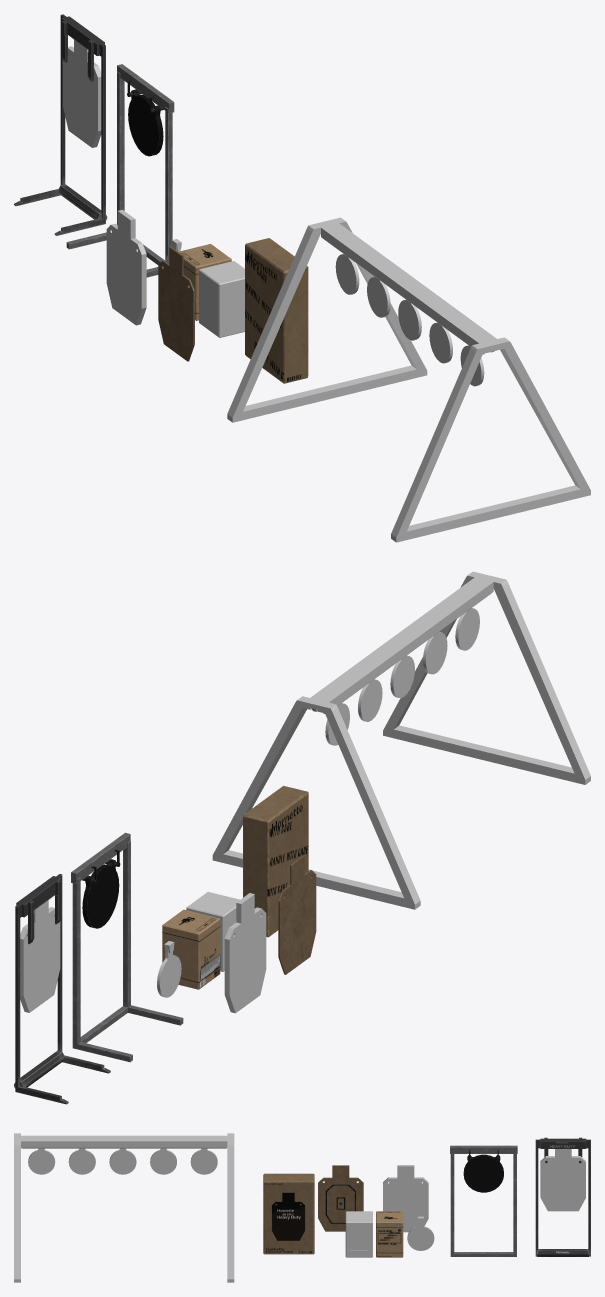
File: Steel Targets.fbx
3 renders of one model, top to bottom at view 1: azimuth 30°, elevation 25°; view 2: azimuth 150°, elevation 25°; view 3: azimuth 270°, elevation 25°, orthographic. The views are drawn at different scales.
Visible parts, largest first — view 1: Plate_Mount, S_Target_Box, Silhouette_mount, gong_mount, Silhouette target, Steel Targets, Cardboars_Silhouette_target, Silhouette target.001, Steely_box_Display, s_gong, Steely_box; view 2: Plate_Mount, S_Target_Box, gong_mount, Silhouette_mount, Silhouette target, Steel Targets, Cardboars_Silhouette_target, Steely_box, Silhouette target.001, s_gong, Steely_box_Display, Steel Target; view 3: Plate_Mount, S_Target_Box, Steel Targets, Silhouette target.001, Cardboars_Silhouette_target, Silhouette target, Silhouette_mount, gong_mount, s_gong, Steely_box, Steely_box_Display, Steel Target.
Boxes of the visible parts, x1,y1,x2,y2 form: Plate_Mount: [227, 217, 590, 542]; S_Target_Box: [245, 238, 308, 383]; Silhouette_mount: [14, 14, 107, 235]; gong_mount: [66, 64, 174, 277]; Silhouette target: [106, 210, 146, 325]; Steel Targets: [335, 254, 484, 386]; Cardboars_Silhouette_target: [158, 246, 194, 361]; Silhouette target.001: [62, 39, 101, 147]; Steely_box_Display: [199, 261, 244, 337]; s_gong: [127, 80, 163, 156]; Steely_box: [178, 244, 231, 320]; Plate_Mount: [212, 571, 590, 909]; S_Target_Box: [243, 785, 308, 937]; gong_mount: [71, 832, 183, 1062]; Silhouette_mount: [14, 874, 110, 1104]; Silhouette target: [224, 893, 266, 1013]; Steel Targets: [325, 608, 479, 745]; Cardboars_Silhouette_target: [278, 855, 316, 974]; Steely_box: [162, 909, 220, 989]; Silhouette target.001: [20, 900, 60, 1012]; s_gong: [82, 849, 120, 928]; Steely_box_Display: [186, 892, 239, 971]; Steel Target: [157, 941, 181, 997]; Plate_Mount: [14, 1133, 234, 1282]; S_Target_Box: [263, 1173, 314, 1254]; Steel Targets: [28, 1148, 217, 1174]; Silhouette target.001: [540, 1149, 585, 1211]; Cardboars_Silhouette_target: [318, 1165, 363, 1231]; Silhouette target: [383, 1165, 428, 1232]; Silhouette_mount: [535, 1137, 590, 1256]; gong_mount: [450, 1145, 517, 1256]; s_gong: [463, 1150, 503, 1192]; Steely_box: [376, 1211, 403, 1257]; Steely_box_Display: [345, 1211, 372, 1257]; Steel Target: [407, 1216, 434, 1250].
Bounding box in the file's own units: 329 × 289 × 1298.
